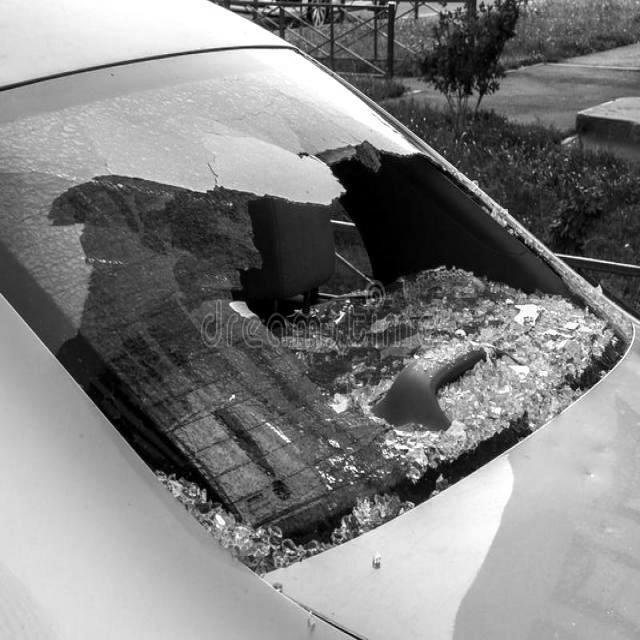Rear-windscreen-Damage: (1, 23, 640, 622)
